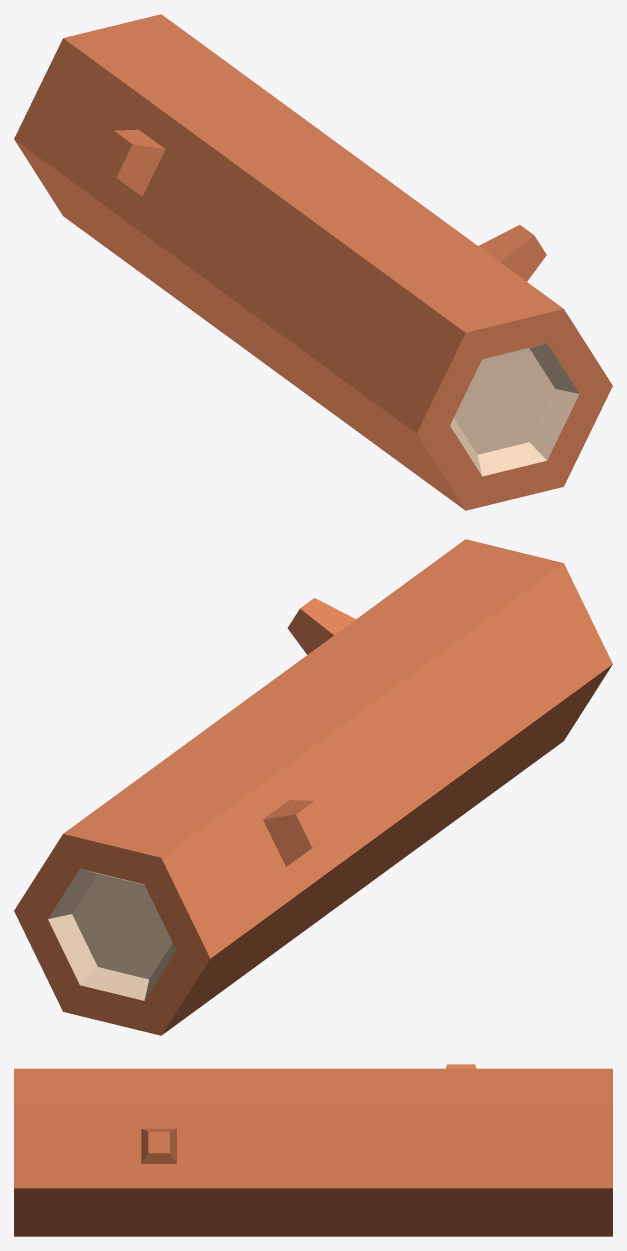
The model's file is log.glb.
The picture shows the model from 3 angles, top to bottom: view 1: azimuth 30°, elevation 25°; view 2: azimuth 150°, elevation 25°; view 3: azimuth 270°, elevation 25°; orthographic projection. The views are drawn at different scales.
Parts seen in each view (by area): view 1: log; view 2: log; view 3: log.
Boxes of the visible parts, <box> form: log: <box>14,14,612,510</box>; log: <box>14,539,612,1035</box>; log: <box>14,1064,612,1236</box>.
Size of the model in its own units: 0.2339 by 0.1732 by 0.71.
